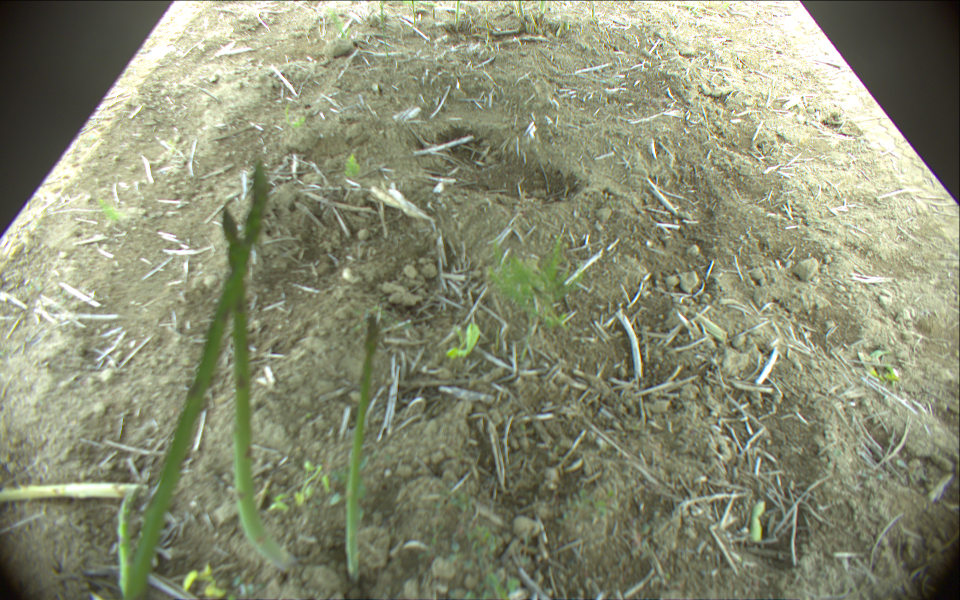aspa: (130, 161, 270, 600), (221, 209, 298, 572), (345, 313, 380, 583), (118, 485, 136, 597), (452, 1, 462, 27), (378, 1, 385, 22), (410, 1, 417, 21), (540, 1, 547, 16), (518, 1, 523, 19)
